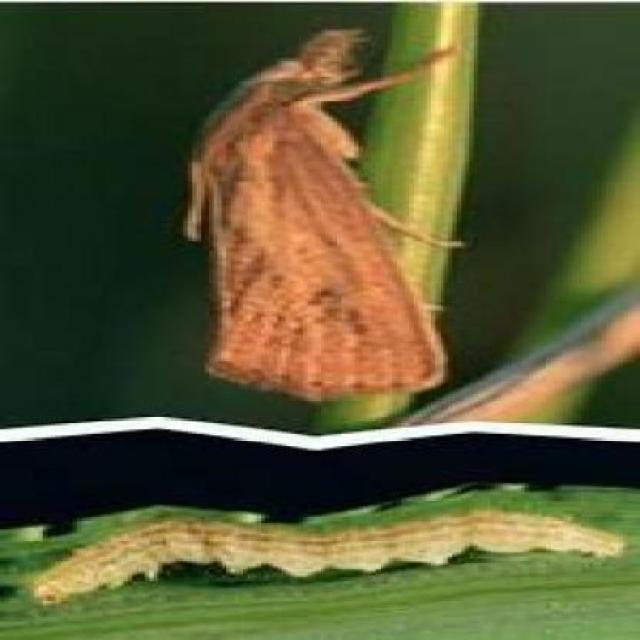stem-borer: (170, 25, 476, 403)
